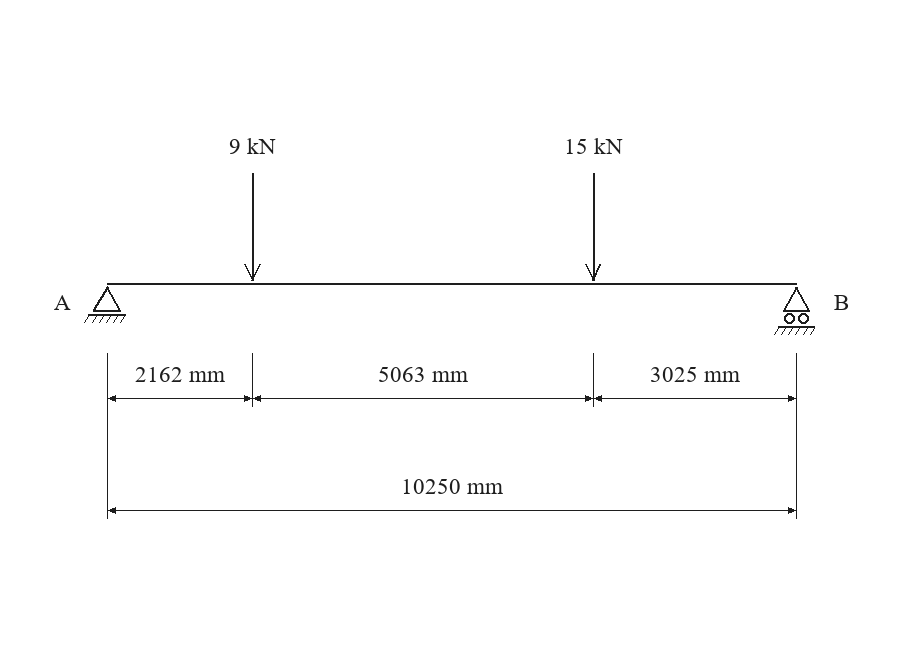pin_support: (84, 286, 126, 323)
point_load: (244, 173, 261, 281), (585, 173, 601, 281)
roller_support: (774, 287, 815, 335)
